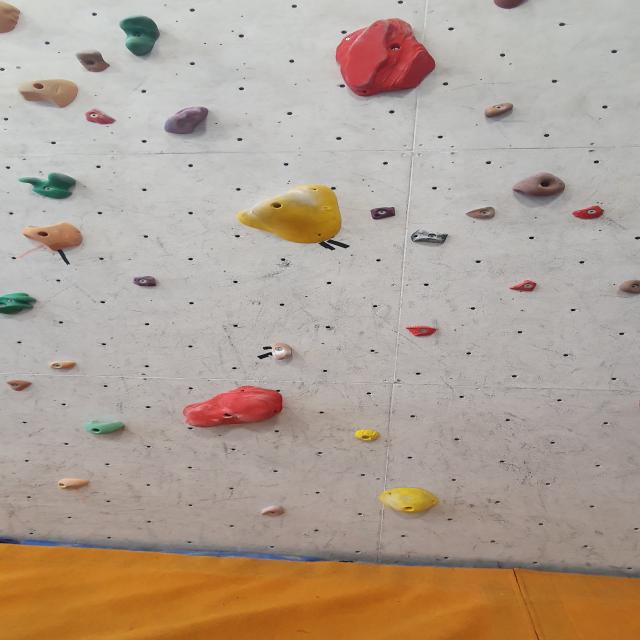Crimp: (475, 100, 520, 122), (77, 107, 120, 128), (566, 204, 607, 222), (366, 205, 402, 222), (463, 207, 500, 222), (1, 378, 39, 392), (256, 505, 293, 519), (506, 280, 542, 294), (405, 324, 439, 338), (353, 428, 383, 443), (131, 276, 161, 290), (62, 477, 91, 490), (48, 360, 79, 371)
Jug: (115, 12, 166, 58), (11, 173, 83, 201), (509, 171, 568, 199), (0, 293, 40, 318), (72, 46, 110, 72), (263, 341, 297, 363), (84, 420, 130, 435)
Pinch: (12, 78, 84, 109), (22, 221, 86, 254), (408, 228, 454, 244)
Sloper: (331, 18, 440, 102), (230, 184, 348, 248), (176, 387, 288, 430), (378, 486, 442, 517), (160, 105, 212, 136), (0, 0, 24, 37)
